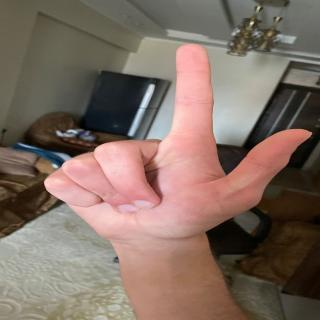LAAM: (37, 40, 320, 257)
